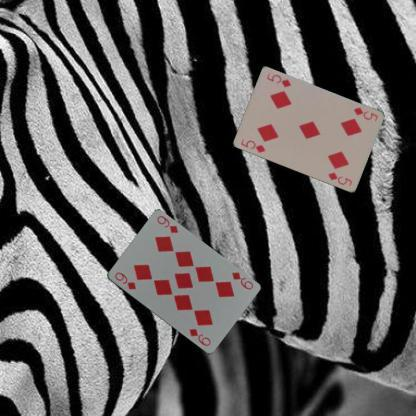5d: (238, 136, 268, 154), (351, 105, 379, 124)
9d: (228, 269, 254, 292), (112, 269, 137, 291)
